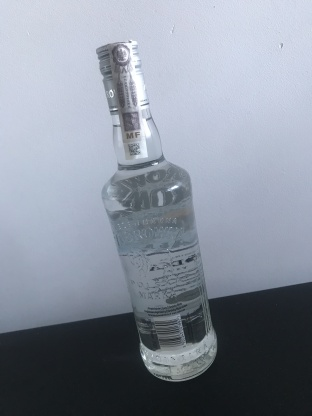nakretka: (94, 36, 151, 118)
